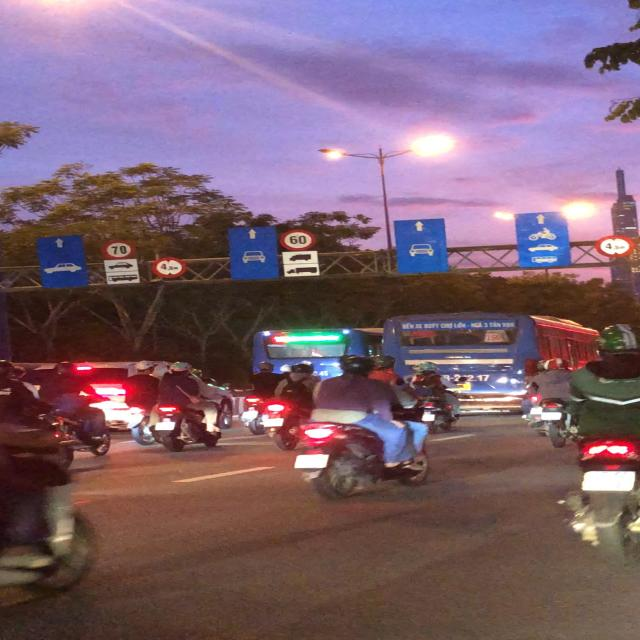Bien bao han che chieu cao: (591, 234, 639, 261), (152, 256, 190, 278)
Bien bao toc do toi da cho phep: (98, 238, 140, 259), (278, 229, 318, 249)
